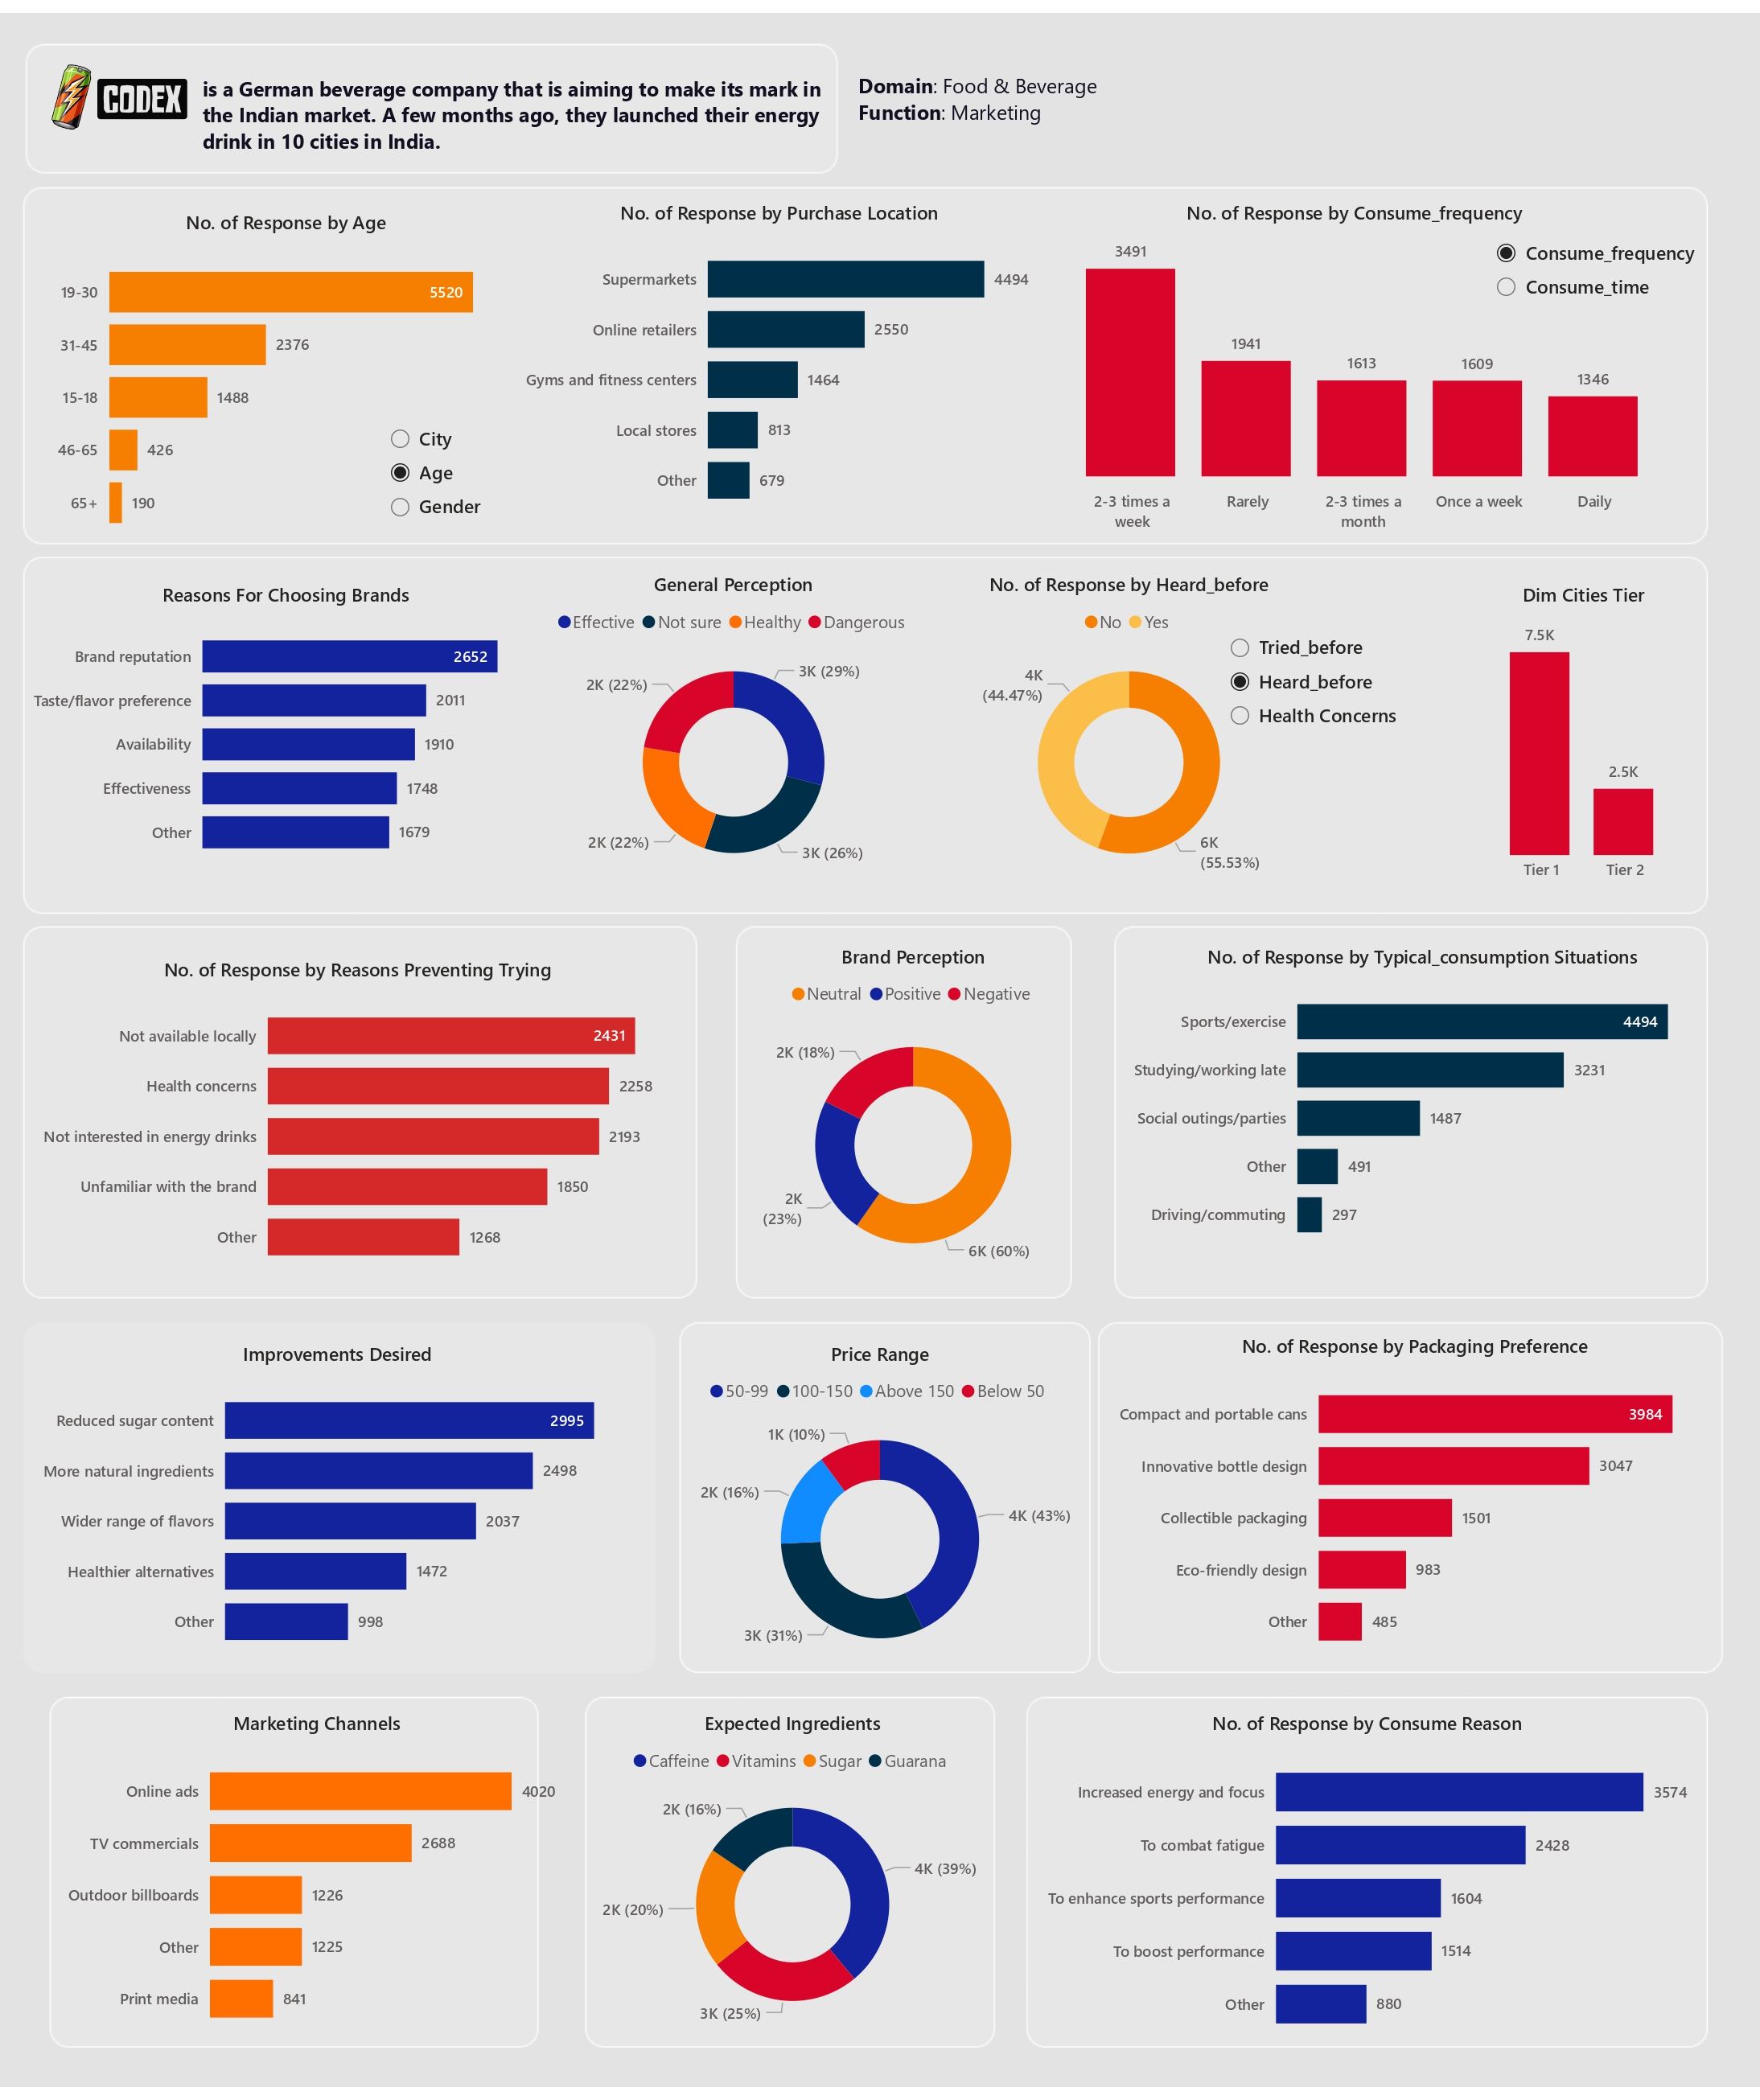

The page's visual inventory and layout, read from the dashboard file:
{"tool":"powerbi","page":{"name":"Page 1","canvas":[1400,1650],"ordinal":0},"visuals":[{"type":"barChart","fields":{"Category":["dim_repondents.Age"],"Y":["fact_survey_responses.No. of Response"]},"box":[40,156,375,272],"z":0},{"type":"barChart","title":"No. of Response by Purchase Location","fields":{"Category":["fact_survey_responses.Purchase_location"],"Y":["fact_survey_responses.No. of Response"]},"box":[411,147,416,260],"z":1000},{"type":"slicer","fields":{"Values":["Parameter.Parameter"]},"box":[297,320.6,118.5,97.1],"z":2000},{"type":"columnChart","fields":{"Category":["fact_survey_responses.Consume_frequency"],"Y":["fact_survey_responses.No. of Response"]},"box":[807,147,539,271],"z":3000},{"type":"slicer","fields":{"Values":["Consumption Patterns.Parameter"]},"box":[1178.2,171.8,180,70.9],"z":4000},{"type":"donutChart","title":"General Perception","fields":{"Category":["fact_survey_responses.General_perception"],"Y":["fact_survey_responses.No. of Response"]},"box":[434.5,443.6,299.1,254.5],"z":5000},{"type":"barChart","title":"No. of Response by Typical_consumption Situations","fields":{"Category":["fact_survey_responses.Typical_consumption_situations"],"Y":["fact_survey_responses.No. of Response"]},"box":[895,739,471,251],"z":6000},{"type":"barChart","title":"No. of Response by Consume Reason","fields":{"Category":["fact_survey_responses.Consume_reason"],"Y":["fact_survey_responses.No. of Response"]},"box":[827,1349,519,272],"z":7000},{"type":"donutChart","title":"Brand Perception","fields":{"Category":["fact_survey_responses.Brand_perception"],"Y":["fact_survey_responses.No. of Response"]},"box":[569,739,313,272],"z":8000},{"type":"barChart","title":"Reasons For Choosing Brands","fields":{"Category":["fact_survey_responses.Reasons_for_choosing_brands"],"Y":["fact_survey_responses.No. of Response"]},"box":[20,452,415,232],"z":9000},{"type":"donutChart","title":"Expected Ingredients","fields":{"Category":["fact_survey_responses.Ingredients_expected"],"Y":["fact_survey_responses.No. of Response"]},"box":[442,1349,377,260],"z":10000},{"type":"donutChart","title":"Price Range","fields":{"Category":["fact_survey_responses.Price_range"],"Y":["fact_survey_responses.No. of Response"]},"box":[518,1056,364,267],"z":11000},{"type":"barChart","title":"Marketing Channels","fields":{"Category":["fact_survey_responses.Marketing_channels"],"Y":["fact_survey_responses.No. of Response"]},"box":[47,1349,408,267],"z":12000},{"type":"barChart","title":"No. of Response by Packaging Preference","fields":{"Category":["fact_survey_responses.Packaging_preference"],"Y":["fact_survey_responses.No. of Response"]},"box":[884,1049,483,267],"z":13000},{"type":"barChart","title":"No. of Response by Reasons Preventing Trying","fields":{"Category":["fact_survey_responses.Reasons_preventing_trying"],"Y":["fact_survey_responses.No. of Response"]},"box":[27,750,513,260],"z":14000},{"type":"donutChart","fields":{"Category":["fact_survey_responses.Heard_before"],"Y":["fact_survey_responses.No. of Response"]},"box":[747,444,300,255],"z":15000},{"type":"slicer","fields":{"Values":["Parameter.Parameter"]},"box":[966.4,486.4,160,95.5],"z":16000},{"type":"barChart","title":"Improvements Desired","fields":{"Category":["fact_survey_responses.Improvements_desired"],"Y":["fact_survey_responses.No. of Response"]},"box":[27,1056,481,260],"z":17000},{"type":"columnChart","title":"Dim Cities Tier","fields":{"Category":["fact_survey_responses.dim_cities.Tier"],"Y":["fact_survey_responses.No. of Response"]},"box":[1136.4,451.8,247.3,247.3],"z":18000},{"type":"image","box":[0,27,113,77],"z":18001,"group":"g1"},{"type":"image","box":[54,42,118,47],"z":18002,"group":"g1"},{"type":"group","id":"g1","title":"Group 1","box":[0,27,172,77],"z":18003,"group":"g2"},{"type":"textbox","box":[155,42,504,93],"z":18004,"group":"g2"},{"type":"group","id":"g2","title":"Group 2","box":[0,27,659,108],"z":18005},{"type":"textbox","box":[677,42,205,62],"z":18006}]}

Visuals, with their boxes in screenshot pixels (x1, y1, x2, y2), scaled from the page's 1400x1650 canvas onto the 1760x2100 screenshot:
barChart - dim_repondents.Age x fact_survey_responses.No. of Response: box=[51, 199, 522, 545]
"No. of Response by Purchase Location" barChart: box=[516, 187, 1039, 518]
slicer - Parameter.Parameter: box=[373, 408, 522, 532]
columnChart - fact_survey_responses.Consume_frequency x fact_survey_responses.No. of Response: box=[1014, 187, 1692, 532]
slicer - Consumption Patterns.Parameter: box=[1481, 219, 1708, 309]
"General Perception" donutChart: box=[546, 565, 923, 889]
"No. of Response by Typical_consumption Situations" barChart: box=[1125, 940, 1717, 1260]
"No. of Response by Consume Reason" barChart: box=[1039, 1717, 1692, 2063]
"Brand Perception" donutChart: box=[715, 940, 1108, 1287]
"Reasons For Choosing Brands" barChart: box=[25, 575, 547, 870]
"Expected Ingredients" donutChart: box=[556, 1717, 1030, 2048]
"Price Range" donutChart: box=[652, 1344, 1108, 1684]
"Marketing Channels" barChart: box=[59, 1717, 572, 2057]
"No. of Response by Packaging Preference" barChart: box=[1112, 1335, 1718, 1675]
"No. of Response by Reasons Preventing Trying" barChart: box=[34, 955, 679, 1285]
donutChart - fact_survey_responses.Heard_before x fact_survey_responses.No. of Response: box=[939, 565, 1316, 890]
slicer - Parameter.Parameter: box=[1215, 619, 1416, 741]
"Improvements Desired" barChart: box=[34, 1344, 639, 1675]
"Dim Cities Tier" columnChart: box=[1429, 575, 1740, 890]
image: box=[0, 35, 142, 133]
image: box=[68, 53, 216, 113]
"Group 1" group: box=[0, 35, 216, 133]
textbox: box=[195, 53, 829, 172]
"Group 2" group: box=[0, 35, 829, 172]
textbox: box=[851, 53, 1108, 133]
